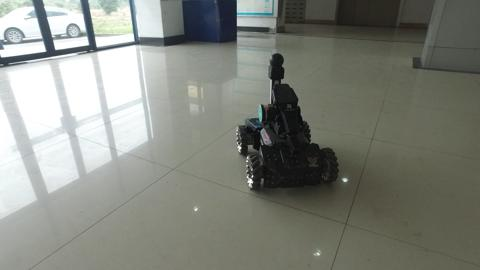car: (1, 3, 86, 44)
chariot: (234, 52, 339, 190)
